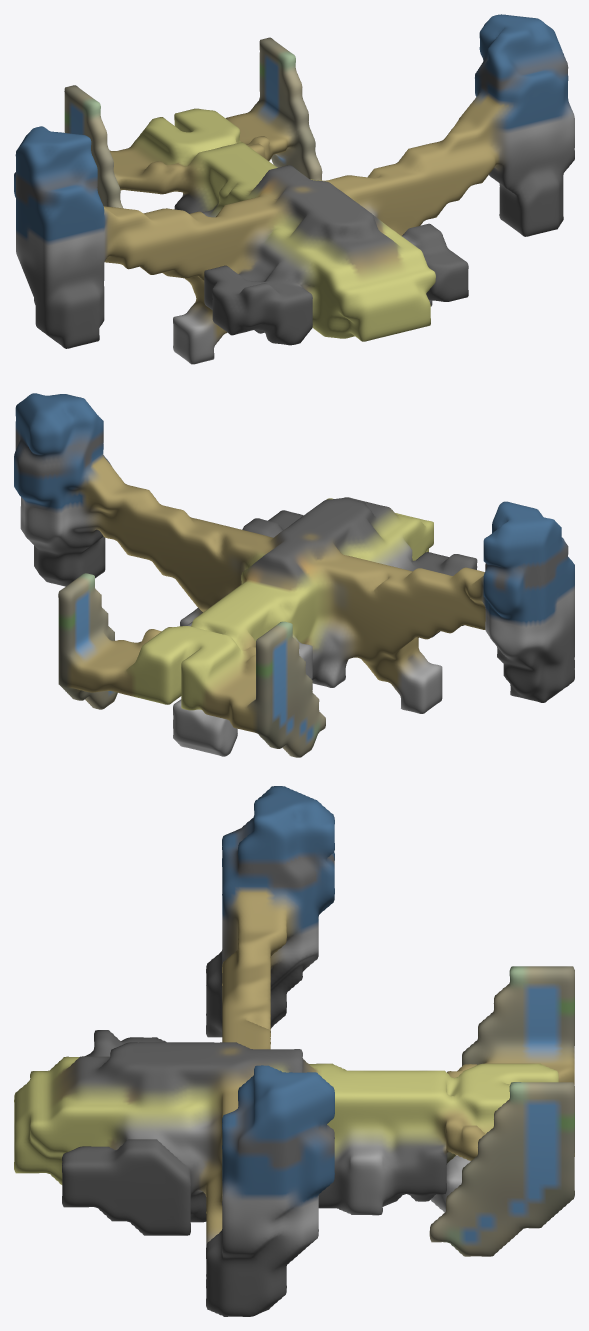
Rendered from osprey_asw.glb.
3 views of the same model, one above another, from view 1: azimuth 30°, elevation 25°; view 2: azimuth 150°, elevation 25°; view 3: azimuth 270°, elevation 25° (orthographic). The views are drawn at different scales.
Parts seen in each view (by area): view 1: osprey_asw; view 2: osprey_asw; view 3: osprey_asw.
Part boxes in pixels (box(x1,y1,x2,y2)): osprey_asw: box(14, 14, 574, 364); osprey_asw: box(14, 393, 574, 757); osprey_asw: box(14, 786, 574, 1316).
Bounding box in the file's own units: 3.78 × 1.59 × 2.86.
